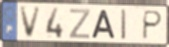4: (44, 6, 66, 40)
A: (91, 9, 117, 40)
I: (120, 8, 128, 41)
P: (141, 9, 164, 41)
V: (18, 6, 43, 40)
Z: (68, 8, 92, 40)
